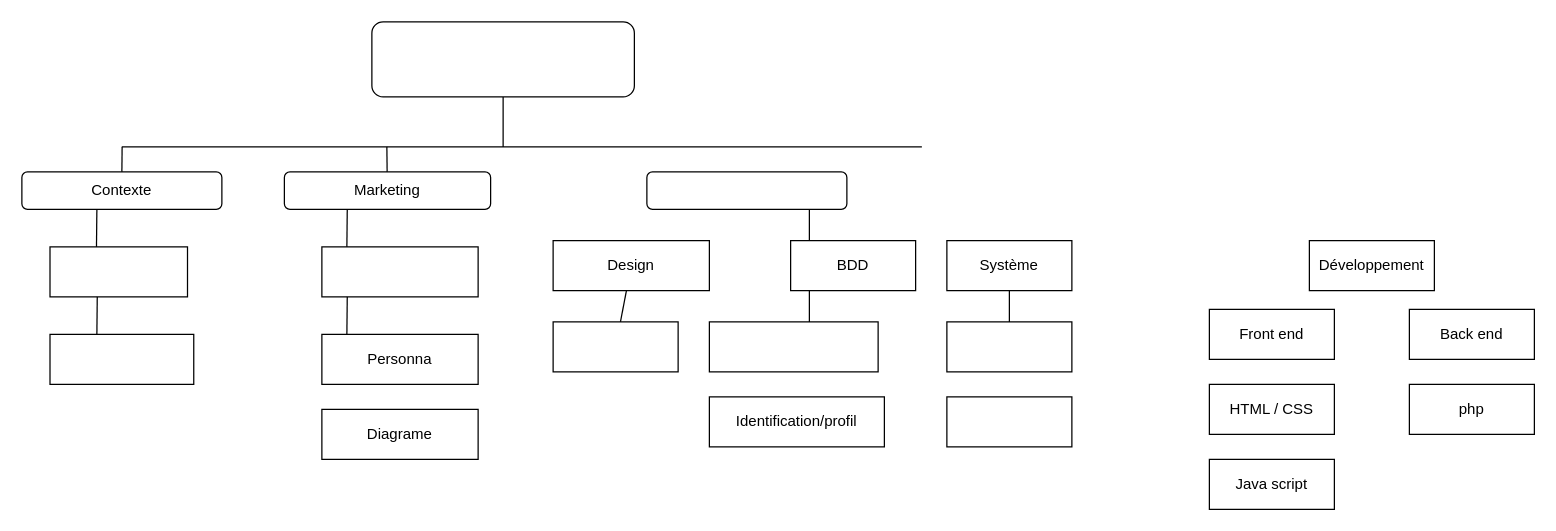
The diagram is 1556 pixels wide and 531 high, and some of its shapes have lost their labels. Here are the shapes that lost their labels. From the top down, the centre of each, then its label:
(x=502, y=59): Agenda (appli web)
(x=746, y=190): Production
(x=118, y=271): Sujet
(x=399, y=271): User Story
(x=615, y=346): UX/UI
(x=793, y=346): Cal
(x=1009, y=346): Hébergement
